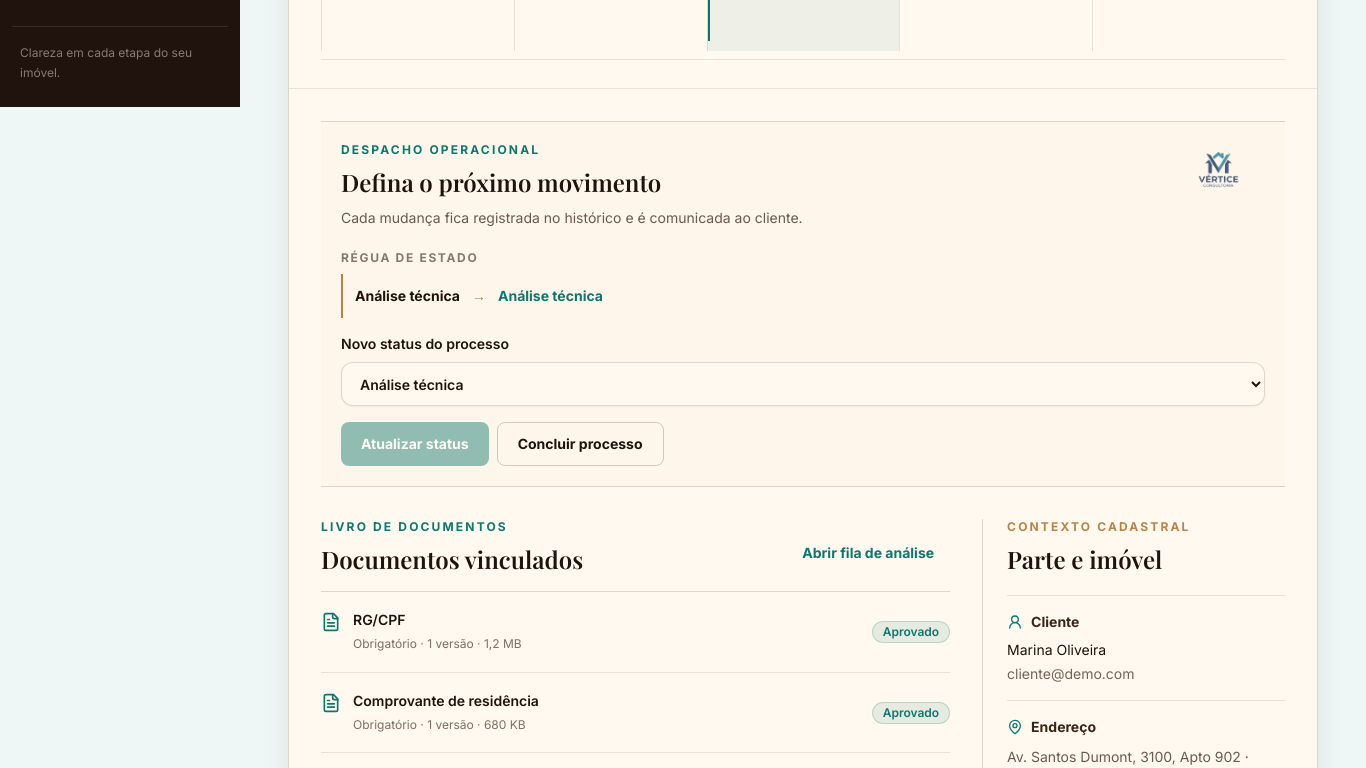
Scenario: AdminPortal › confirma a mudança de estado em um diálogo acessível no mobile
This screenshot has width=1366, height=768.
(page scrolled)
Step 1. Select "Prefeitura/cartório" in the dropdown labelled "Novo status do processo" → (803, 384), box left=341, top=362, right=1265, bottom=406
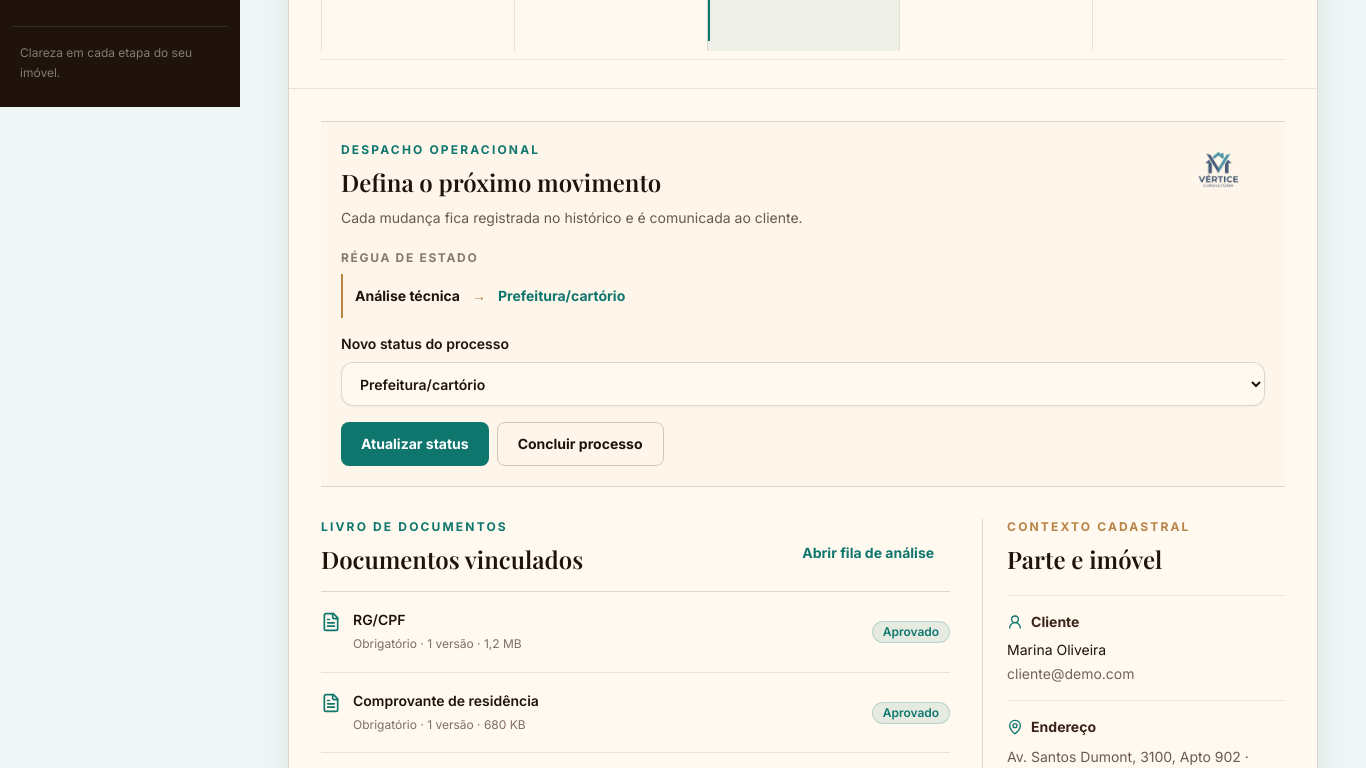
Step 2. Click the button "Atualizar status" → (415, 444), box left=341, top=422, right=489, bottom=466
(page scrolled)
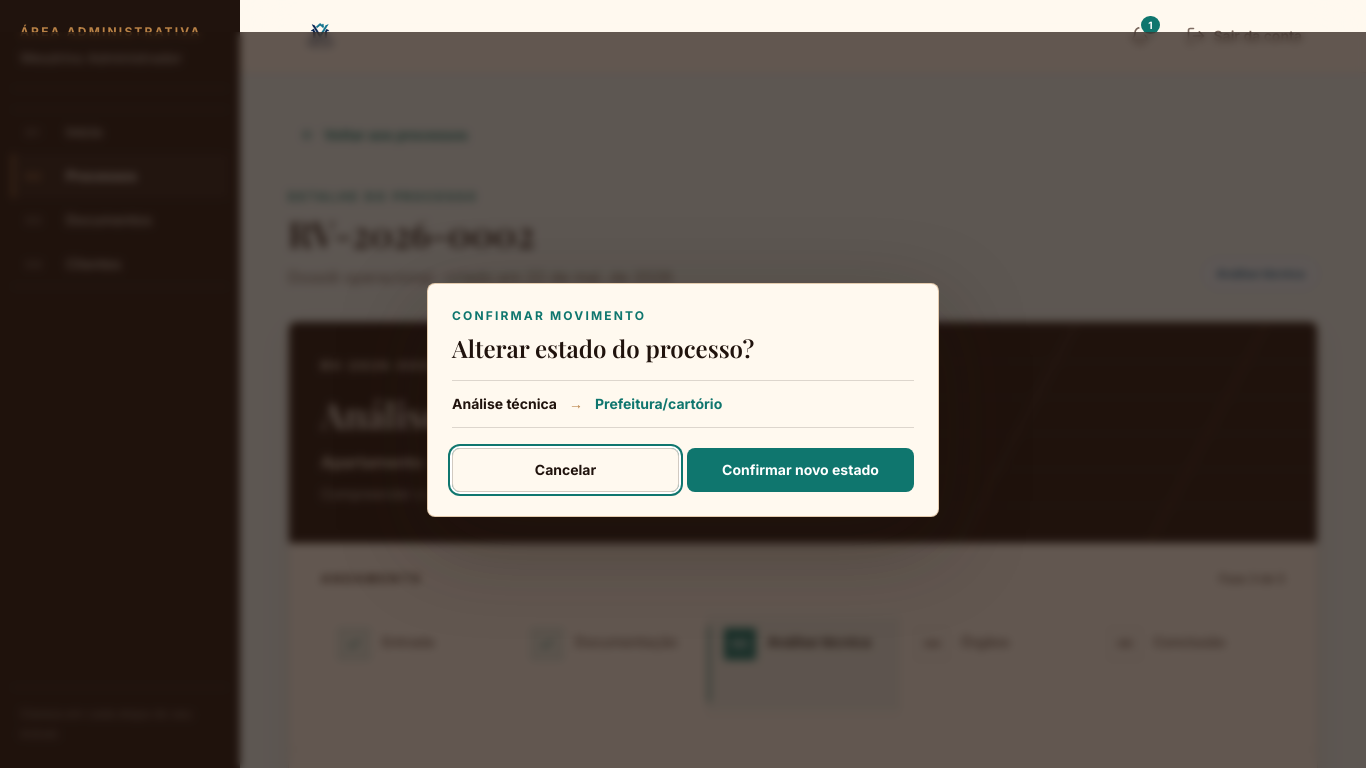
Step 3. Press Escape
(page scrolled)
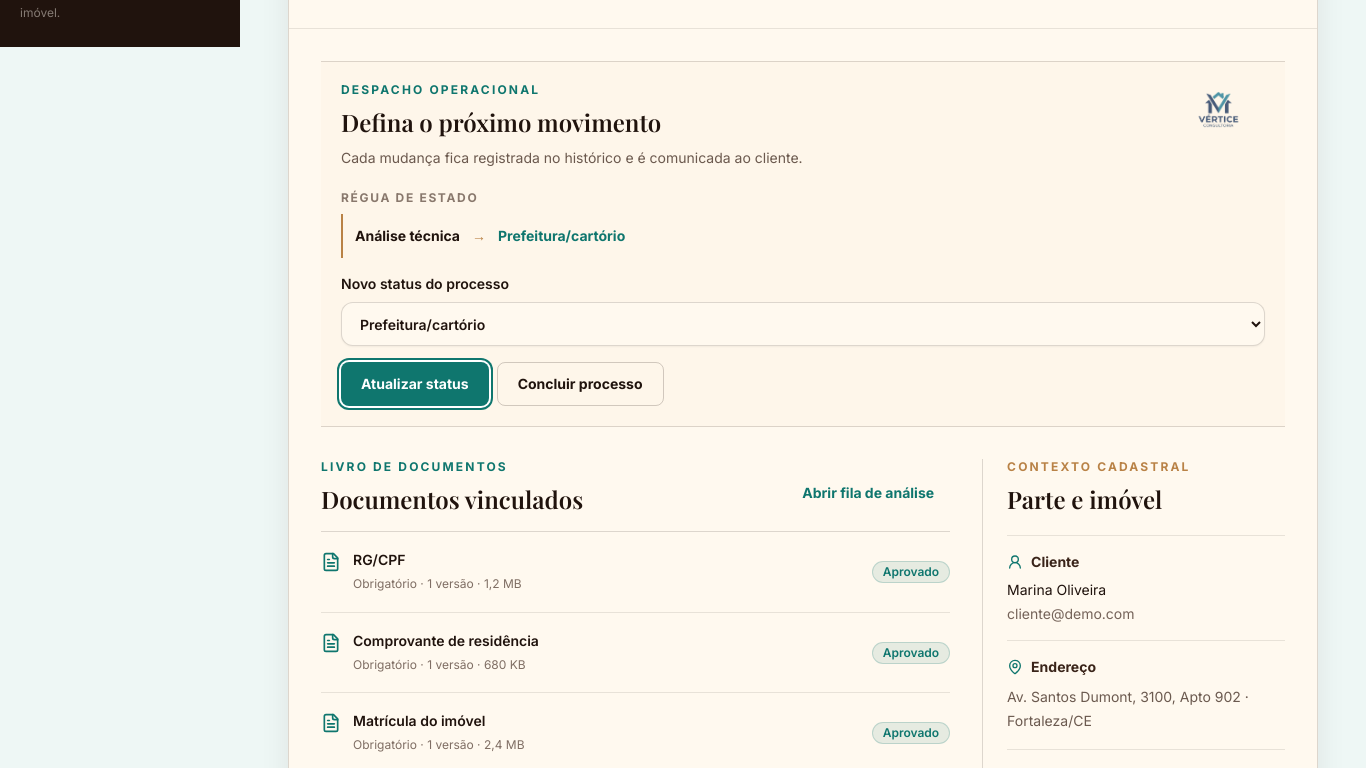
Expected: the heading "Alterar estado do processo?" is gone
Step 4. Click the button "Atualizar status" → (415, 384), box left=341, top=362, right=489, bottom=406
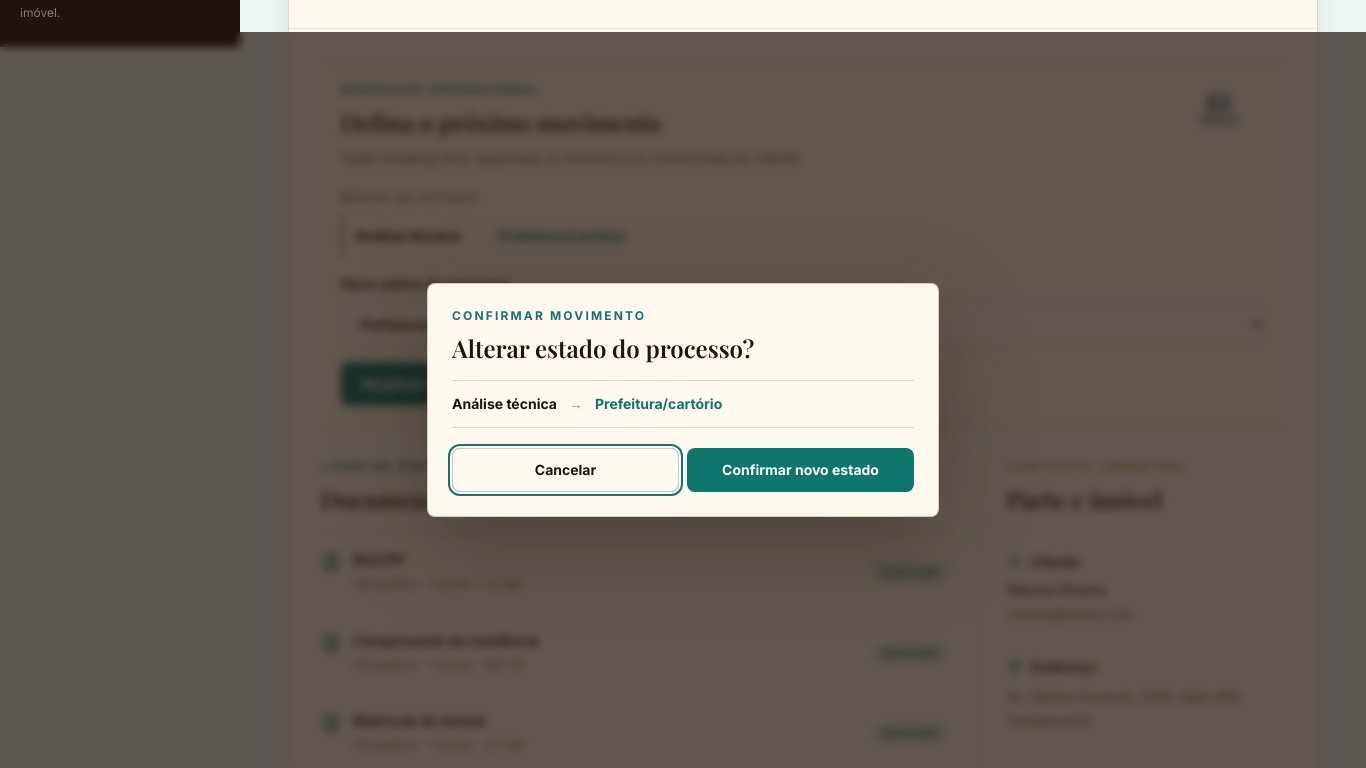
Step 5. Click the button "Confirmar novo estado" → (800, 470), box left=687, top=448, right=914, bottom=492
(page scrolled)
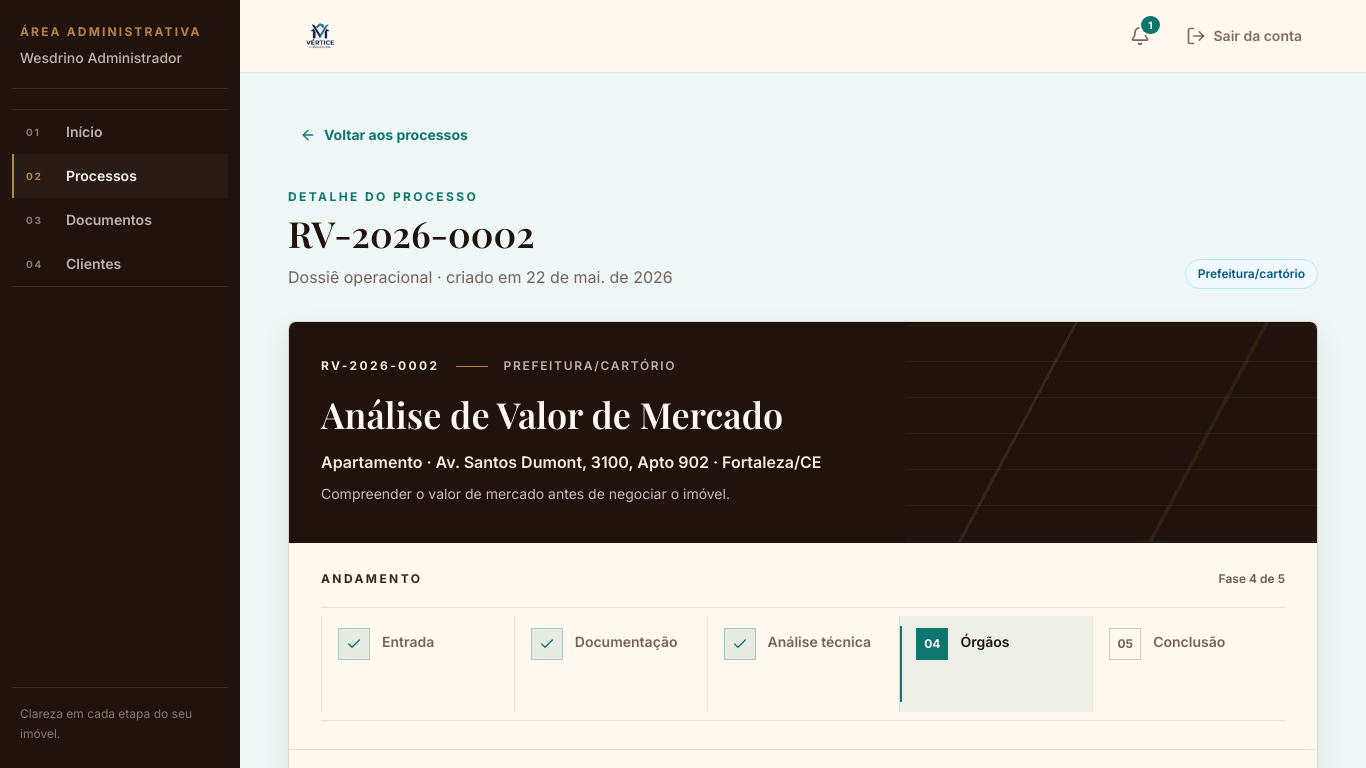
Expected: the 1st text "Prefeitura/cartório" is shown, left=1185, top=259, right=1318, bottom=289
